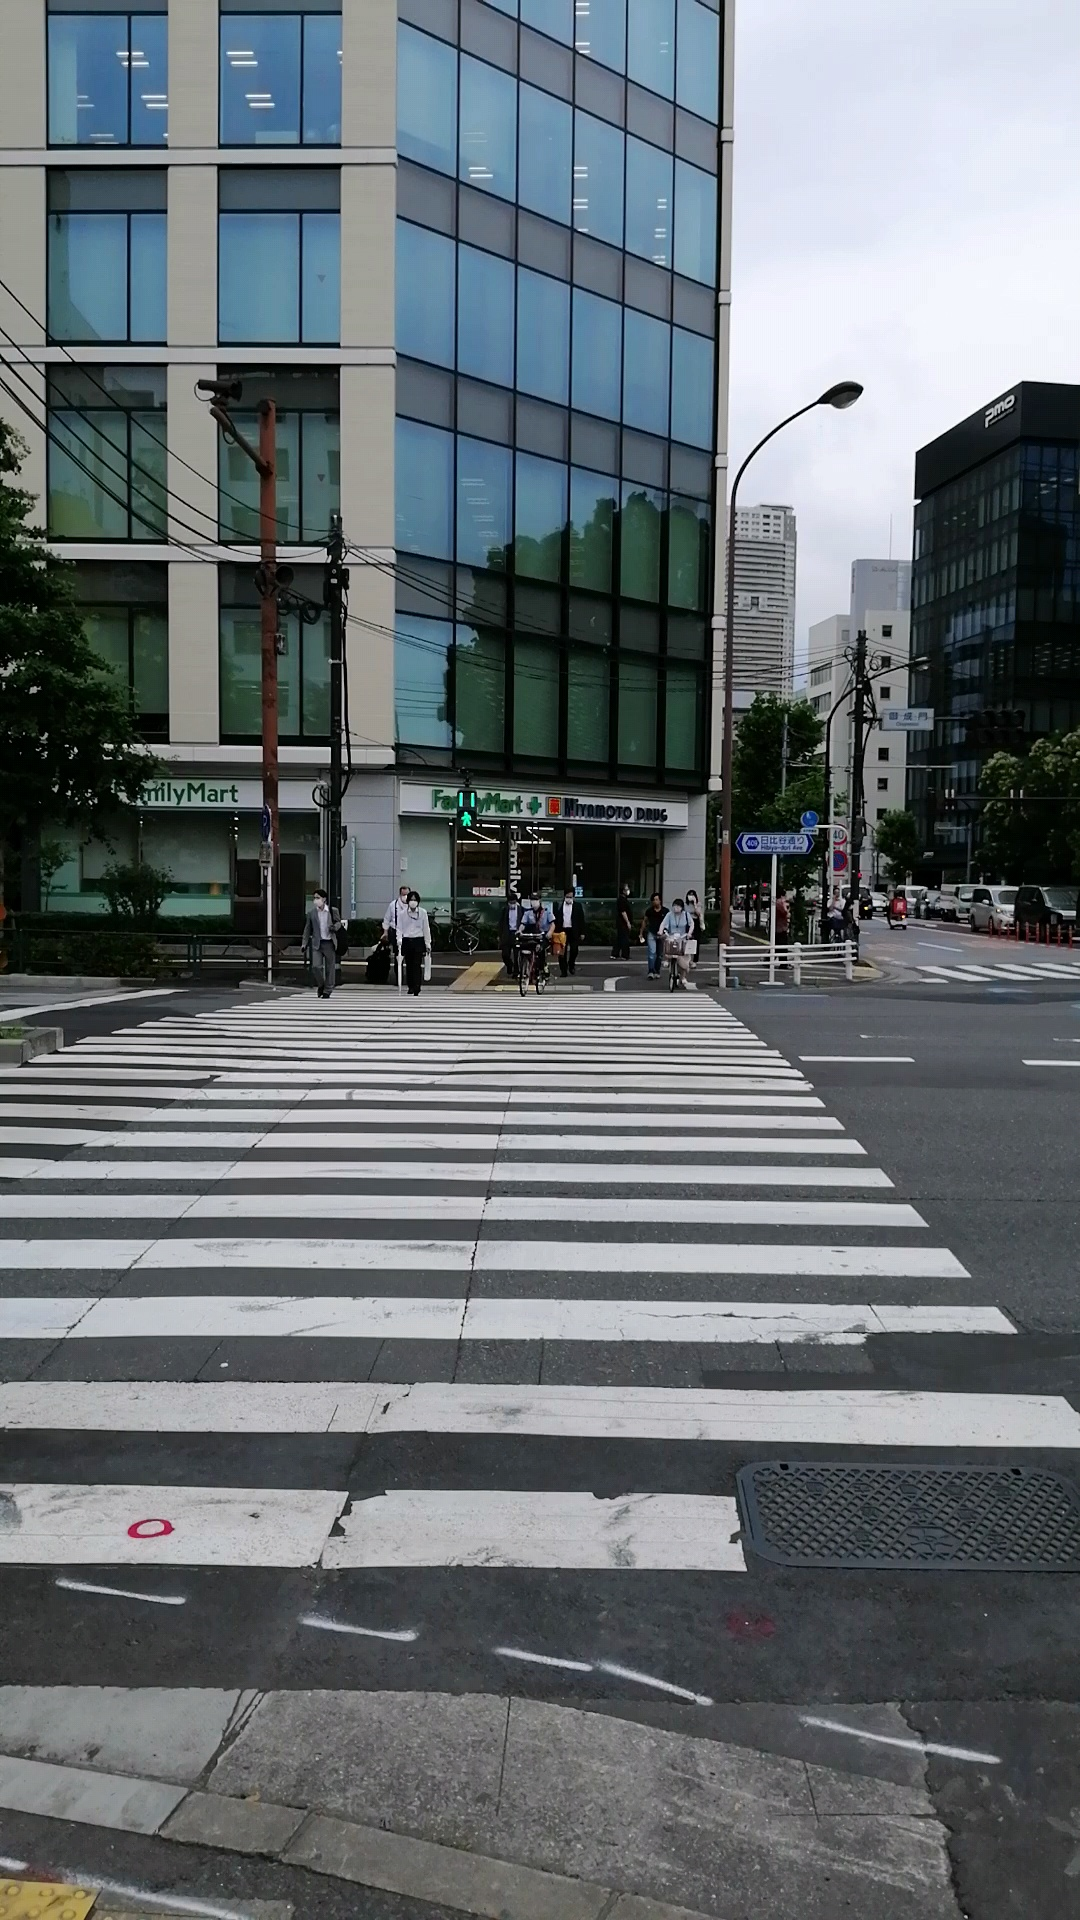green: (455, 789, 476, 829)
